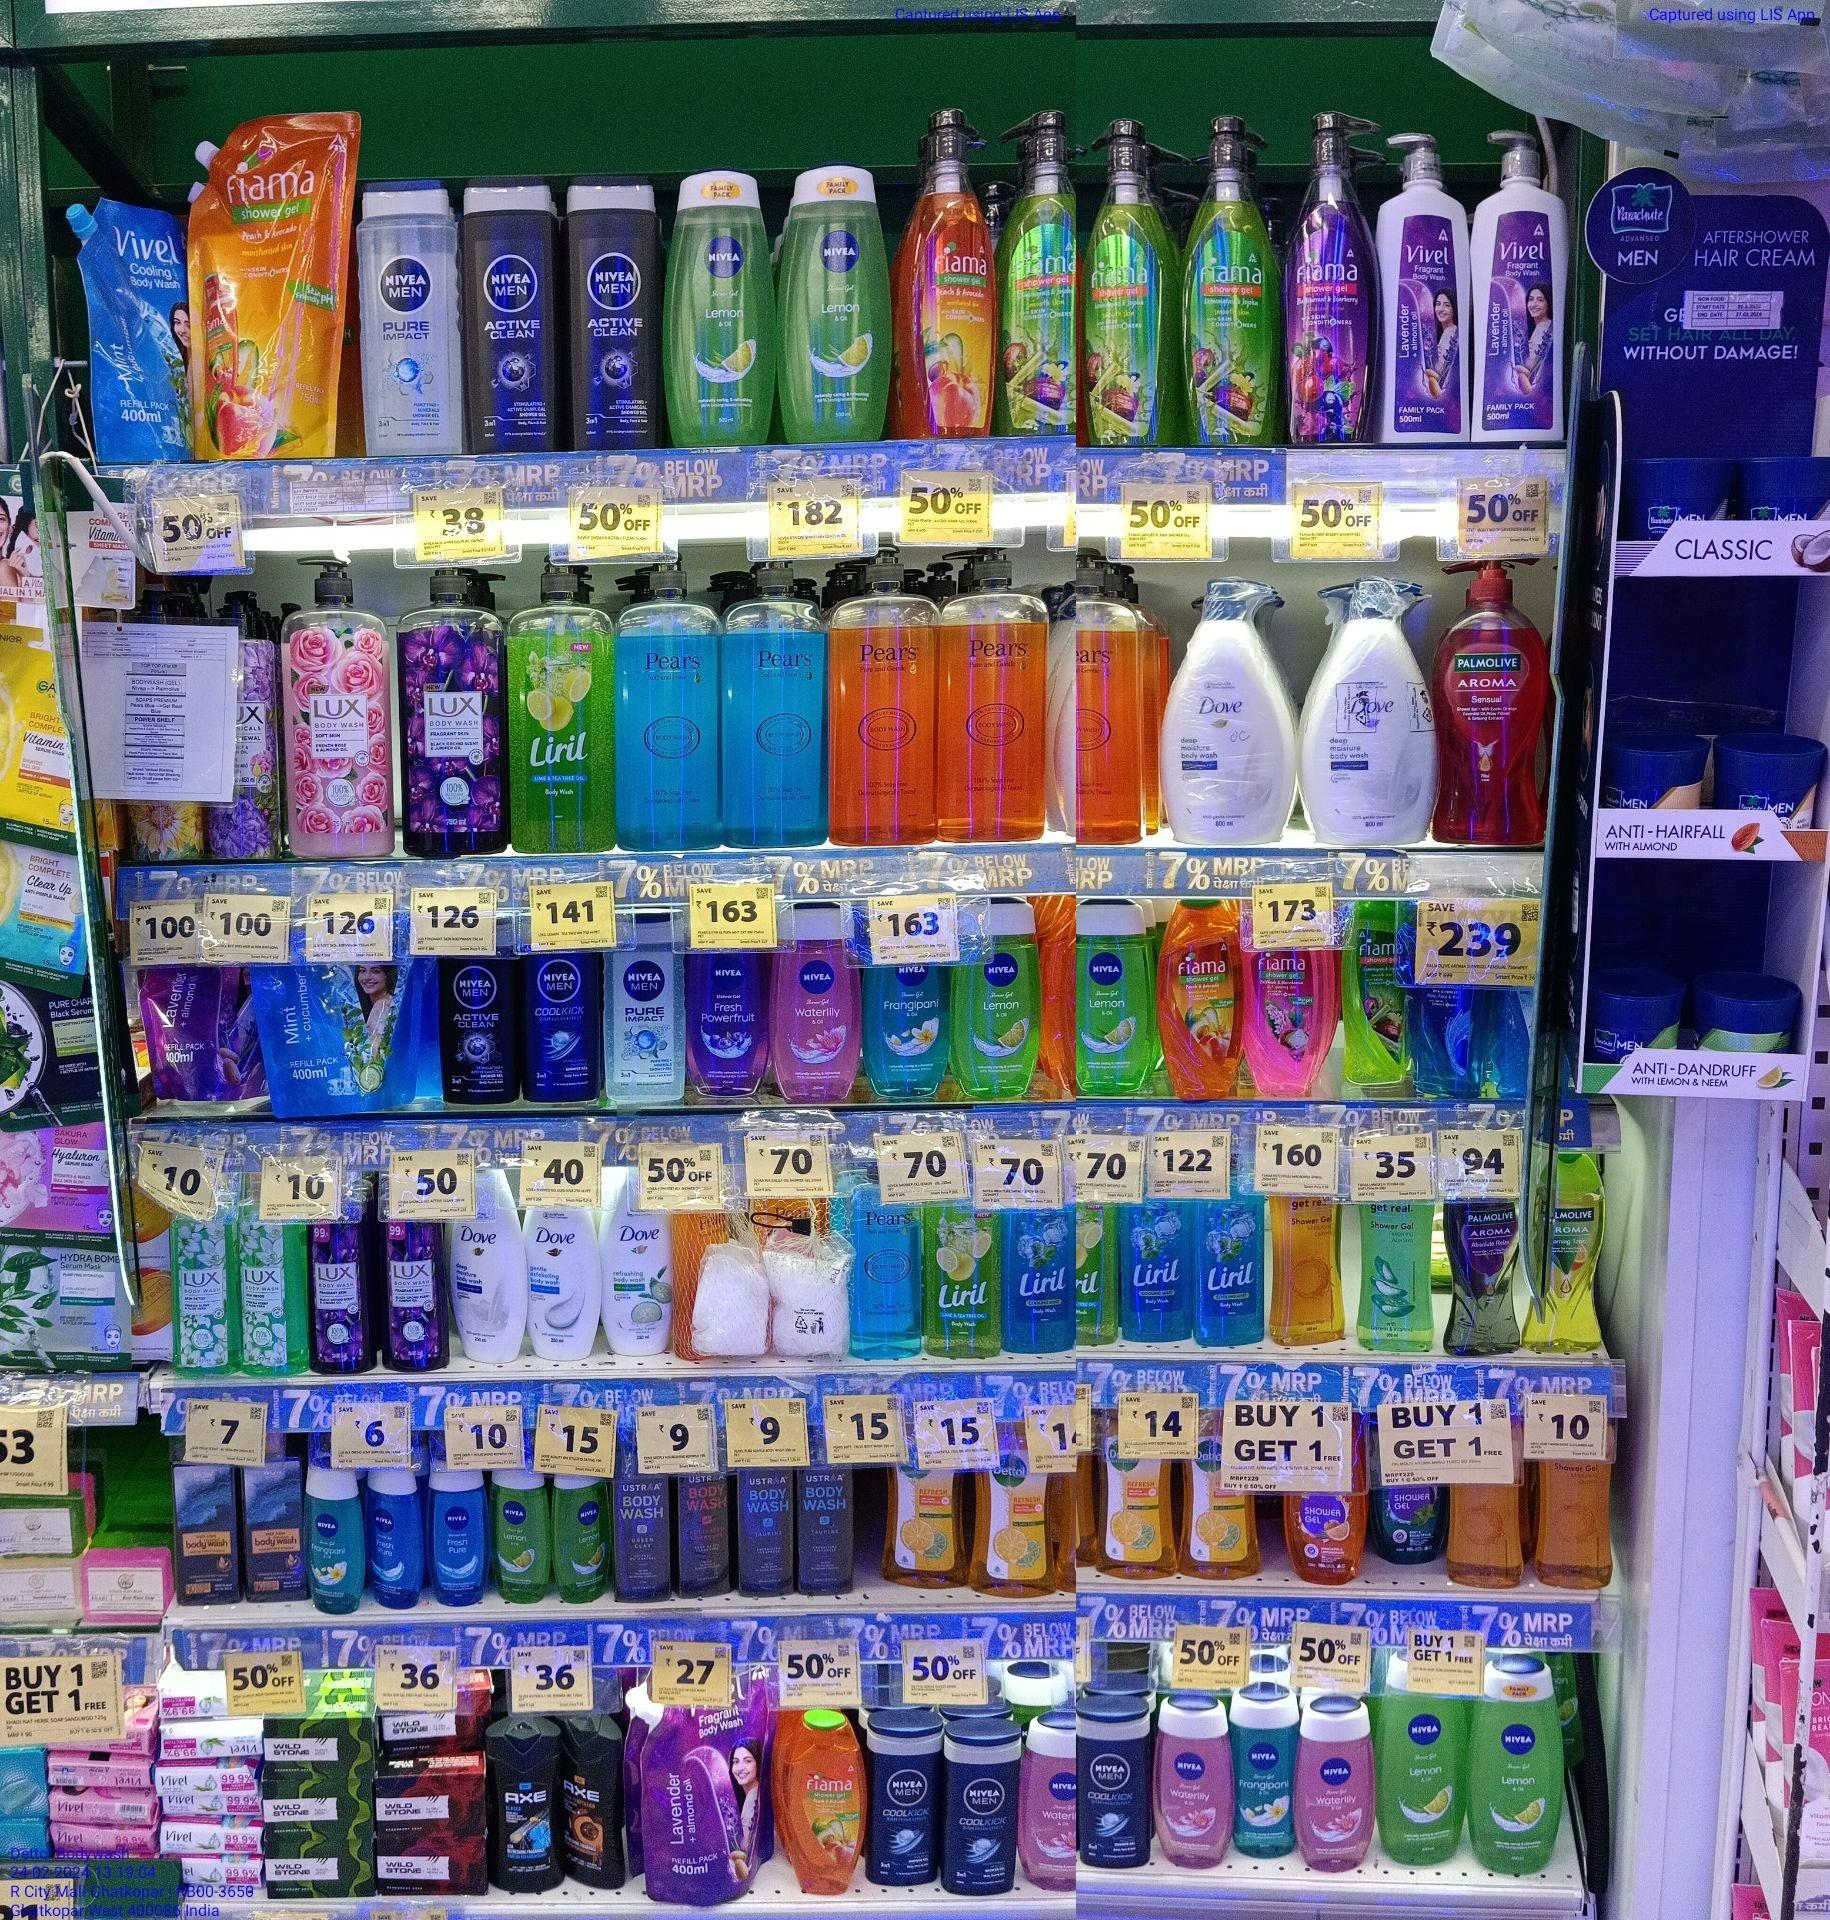Dettol_Bodywash_Refresh: (1098, 1426, 1177, 1581), (1193, 1414, 1259, 1581)
Dove_Deep_Moisture_Body_Wash_250ML: (452, 1169, 524, 1363)
Dove_Gentle_Exfoliating_Body_Wash_250ML: (528, 1171, 600, 1354)
Dove_Refreshing_Body_Wash_250ML: (603, 1162, 672, 1356)
Fiama_Shower_Gel_Patchouli_and_Macadamia_250ML: (1246, 909, 1333, 1094)
Fiama_Shower_Gel_Peach_and_Avocado_250ML: (1157, 900, 1241, 1099), (788, 1719, 862, 1893)
Lux_Black_Orchid_Scent_and_Juniper_Oil_Body_Wash_245ML: (382, 1224, 449, 1370), (308, 1221, 370, 1375)
Lux_Body_Wash_Skin_Detox_Freesia_Scent_and_Alove_Vera_245ML: (166, 1176, 233, 1371), (236, 1183, 295, 1371)
Nivea_Shower_Gel_Frangipani_and_Oil_250ML: (862, 905, 948, 1101), (1237, 1692, 1299, 1862)
Nivea_Shower_Gel_Fresh_Powerfruit_250ML: (689, 907, 764, 1097)
Nivea_Shower_Gel_Lemon_and_Oil_250ML: (785, 165, 893, 442), (667, 173, 773, 446), (960, 902, 1042, 1099), (1480, 1668, 1559, 1872), (1386, 1666, 1463, 1863), (1078, 898, 1155, 1092)
Nivea_Shower_Gel_Waterlily_and_Oil_250ML: (774, 902, 853, 1102), (1153, 1711, 1230, 1863), (1299, 1713, 1372, 1870)
